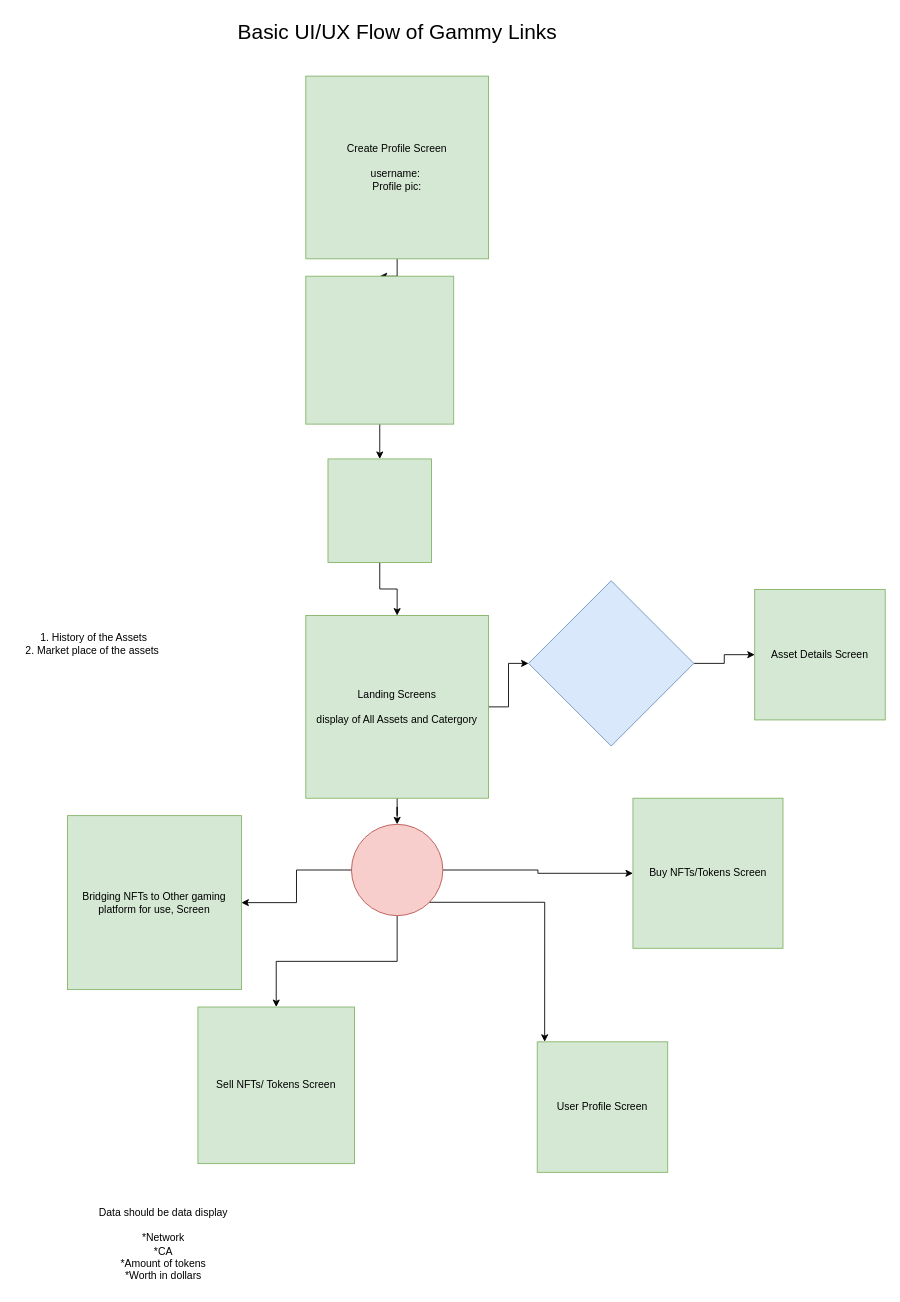
Some shapes in this 900 by 1302 pixel diagram are drawn without their labels. Each missing label, with the centre of its shape:
"Clicking on individual Asset" belongs at (611,663).
"Create Auth Pass Screen: DID" belongs at (379,349).
"Import the Assets from Third Party (Filteration only Gaming)" belongs at (379,510).
"Menu" belongs at (397,869).
